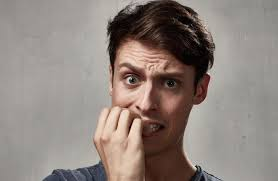bare: (110, 89, 188, 152)
